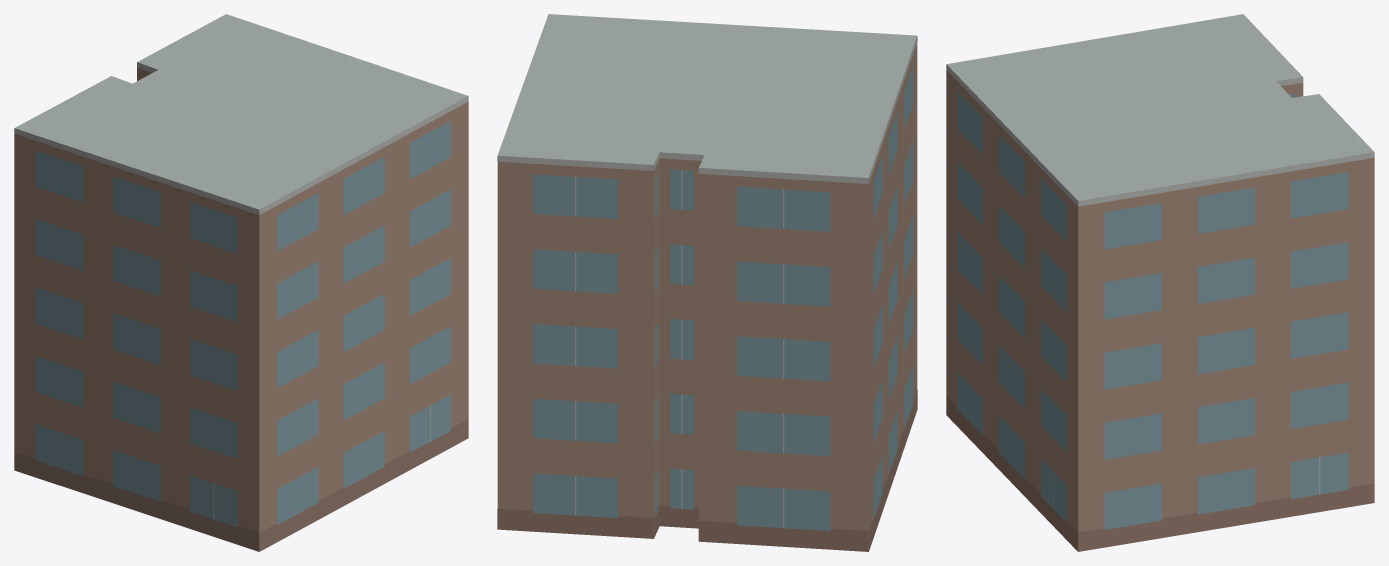
Rendered from survey-upis-32901251.glb.
3 renders of one model, left to right at view 1: azimuth 30°, elevation 25°; view 2: azimuth 150°, elevation 25°; view 3: azimuth 270°, elevation 25°, orthographic. The views are drawn at different scales.
Parts seen in each view (by area): view 1: survey-upis-32901251.tmp; view 2: survey-upis-32901251.tmp; view 3: survey-upis-32901251.tmp.
Part boxes in pixels (box(x1,y1,x2,y2)): survey-upis-32901251.tmp: box(14, 14, 468, 551); survey-upis-32901251.tmp: box(497, 14, 917, 551); survey-upis-32901251.tmp: box(946, 14, 1374, 551).
Bounding box in the file's own units: 17.44 × 15.25 × 16.88.
